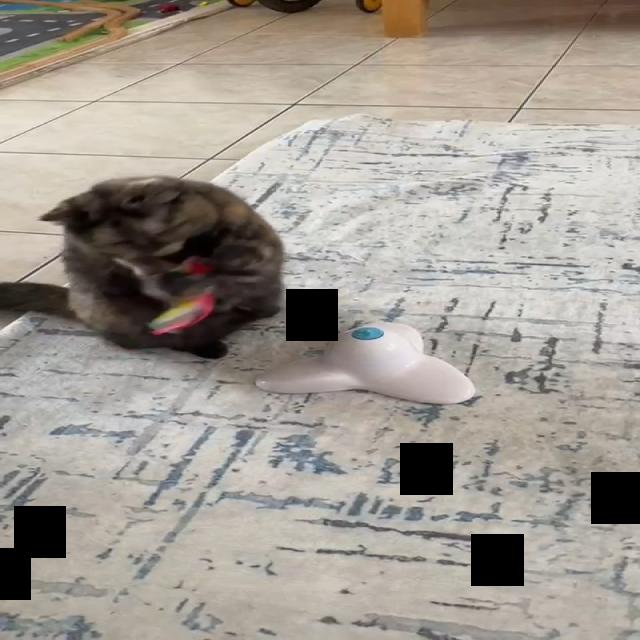authorized: (0, 174, 285, 359)
